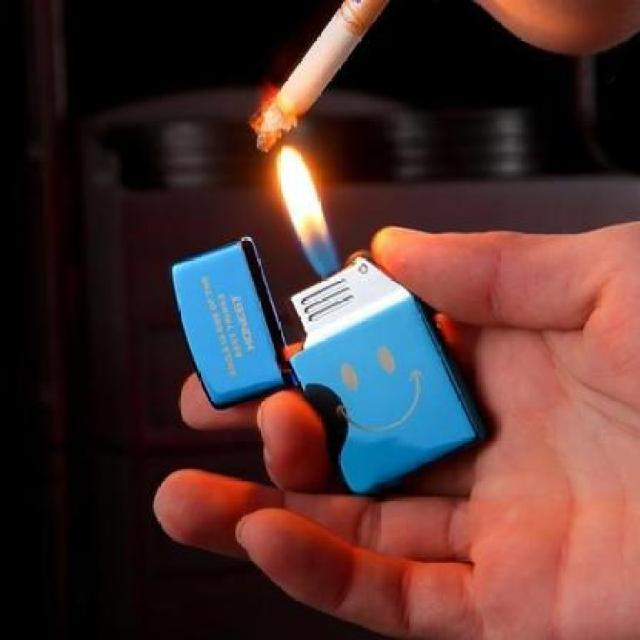Fire: (268, 143, 344, 286)
